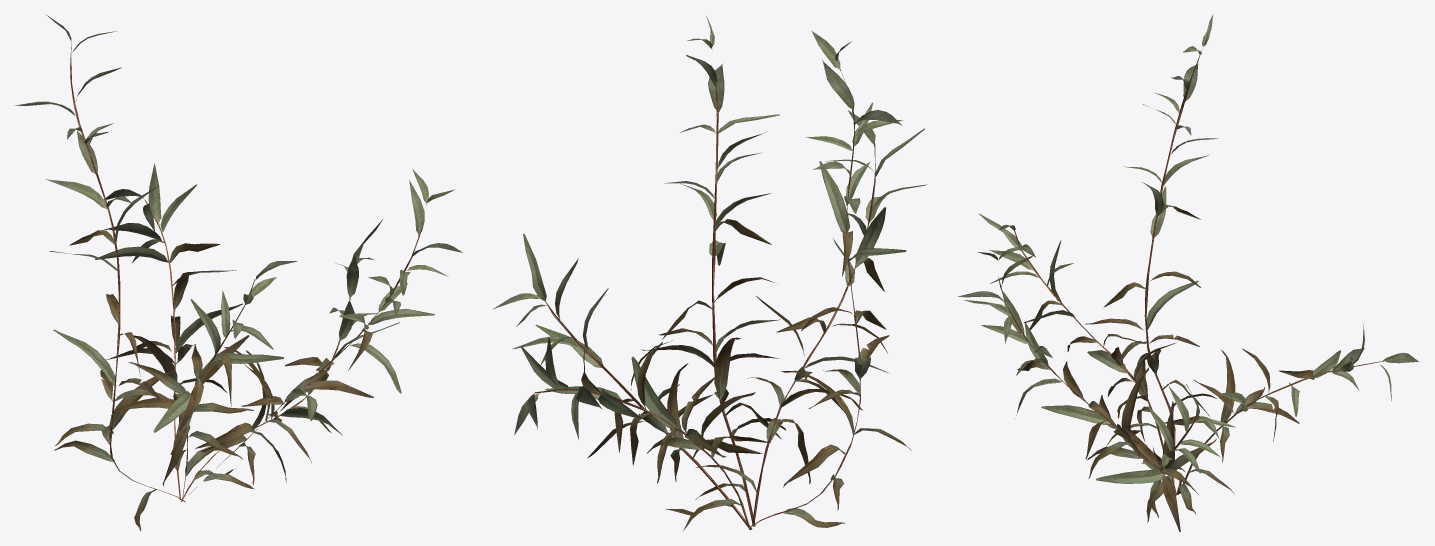
File: shrub_02_a.glb
3 renders of one model, left to right at view 1: azimuth 30°, elevation 25°; view 2: azimuth 150°, elevation 25°; view 3: azimuth 270°, elevation 25°, orthographic. The views are drawn at different scales.
Visible parts, largest first — view 1: shrub_02_a; view 2: shrub_02_a; view 3: shrub_02_a.
Part boxes in pixels (x1,y1,x2,y2): shrub_02_a: (15, 15, 462, 531); shrub_02_a: (492, 16, 926, 530); shrub_02_a: (958, 14, 1418, 531).
Size of the model in its own units: 1.31 by 1.69 by 1.64.
Materials: 1 (1 with a texture image).
